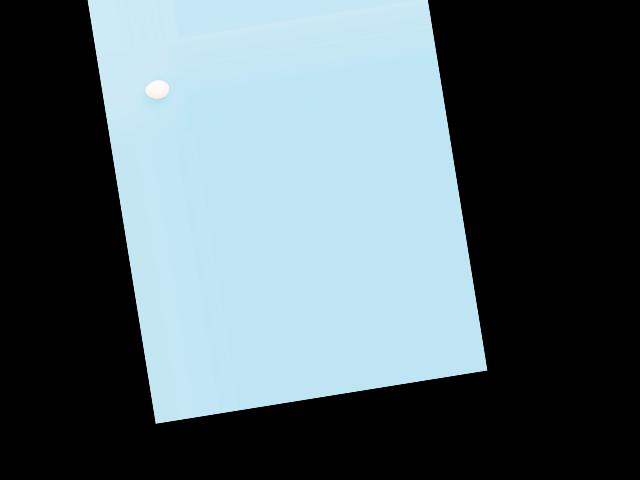egg: (143, 78, 171, 100)
